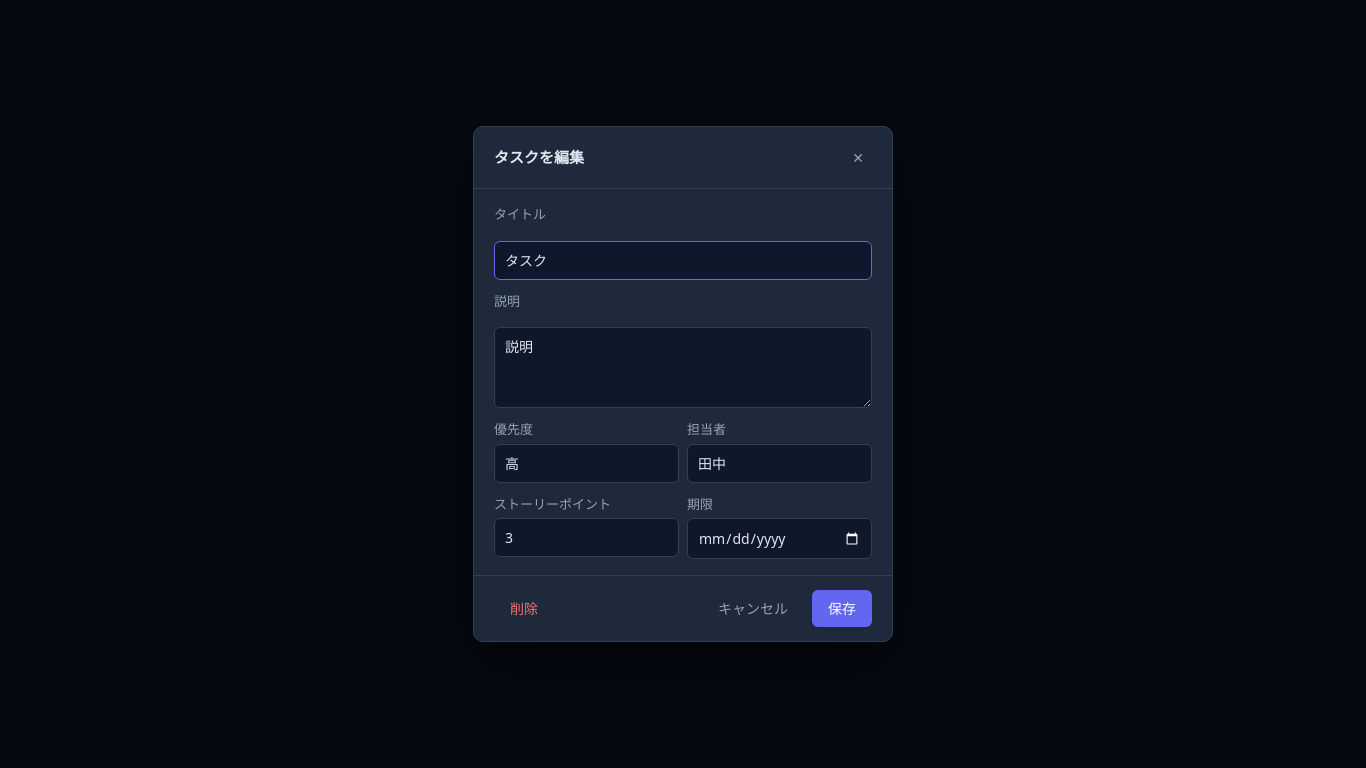
it: CardModal (R-002, R-003) › 削除は二段階確認（押下後に確認メッセージ）(S-003-01,02)
The image size is (1366, 768).
Click the button "削除".
click(524, 608)  # box [494, 590, 554, 627]
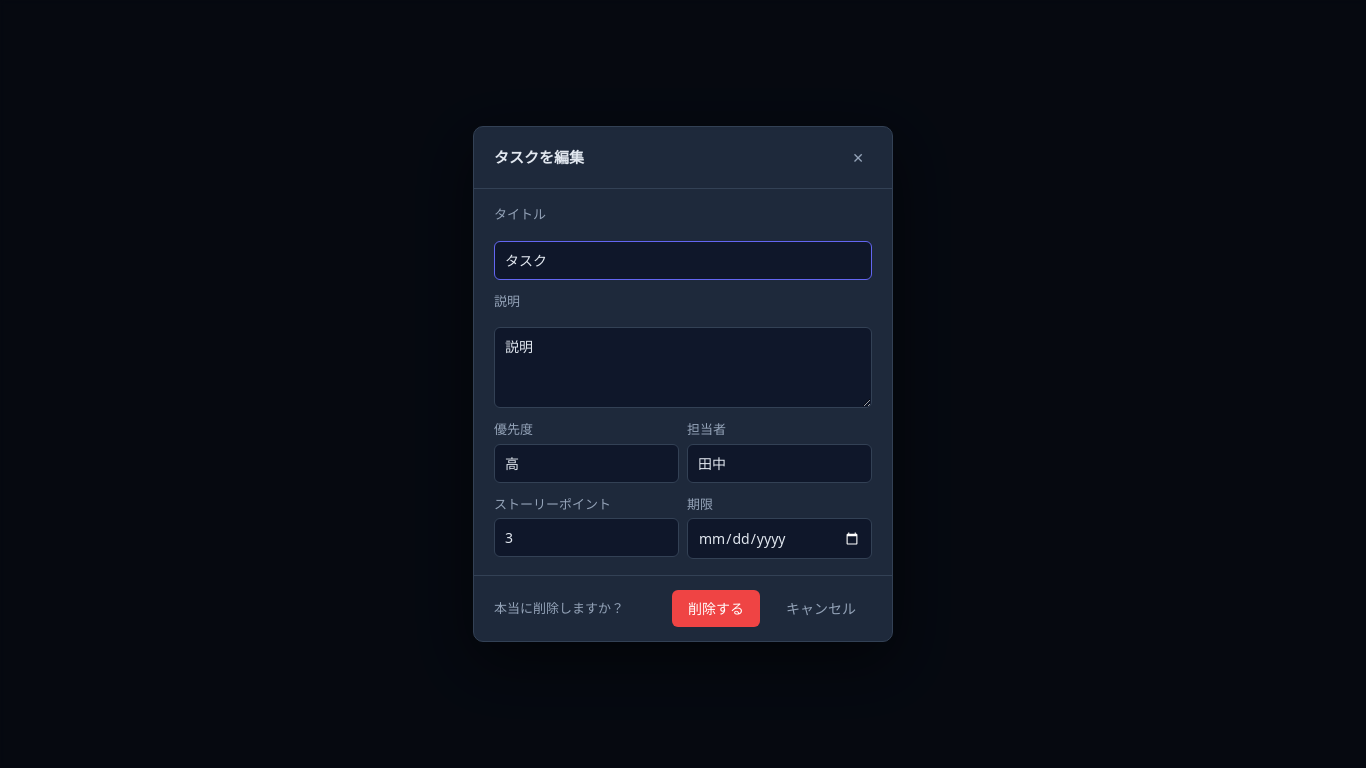
Expected: the text "本当に削除しますか？" is shown, [494, 599, 624, 617]
